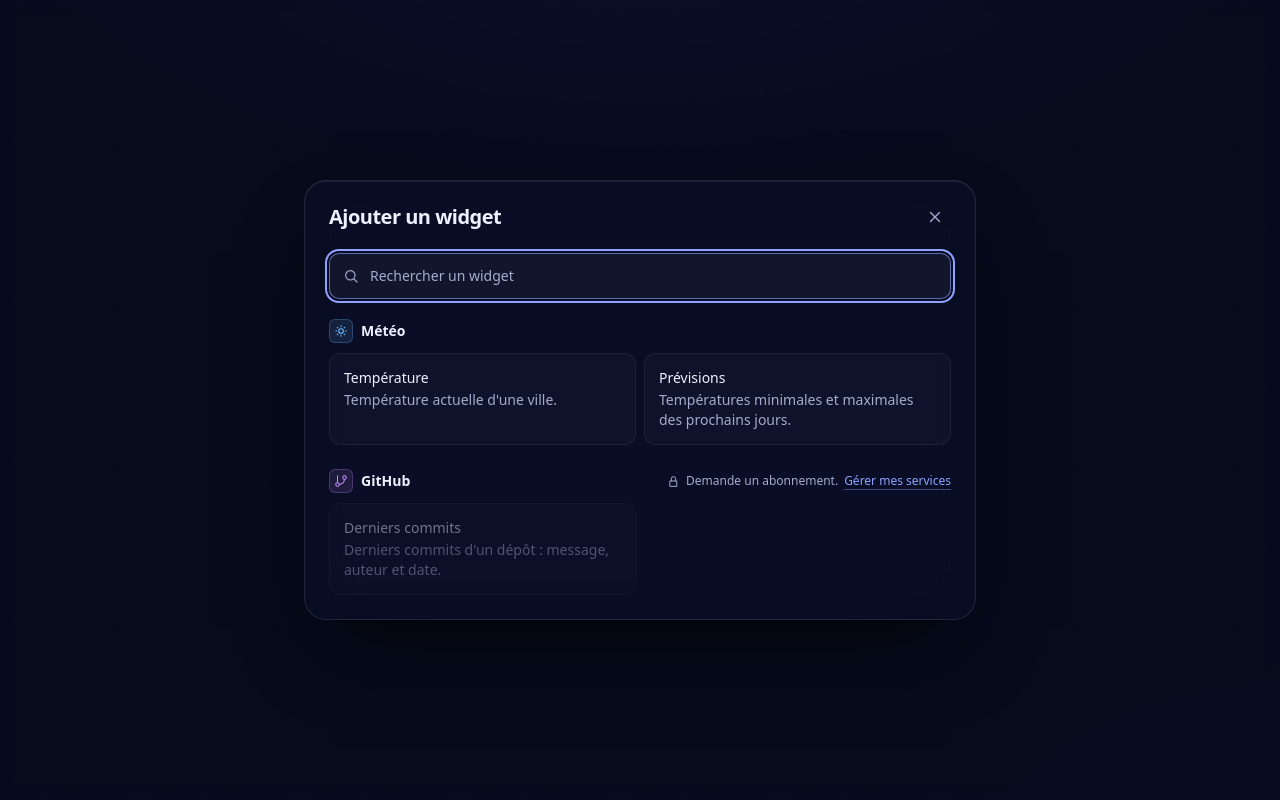
WidgetFormModal — ajout › affiche le message d'erreur renvoyé par le serveur
The width and height of the screenshot is (1280, 800).
Click the button "Température Température actuelle d'une ville." at (482, 399), box [329,353,636,445]
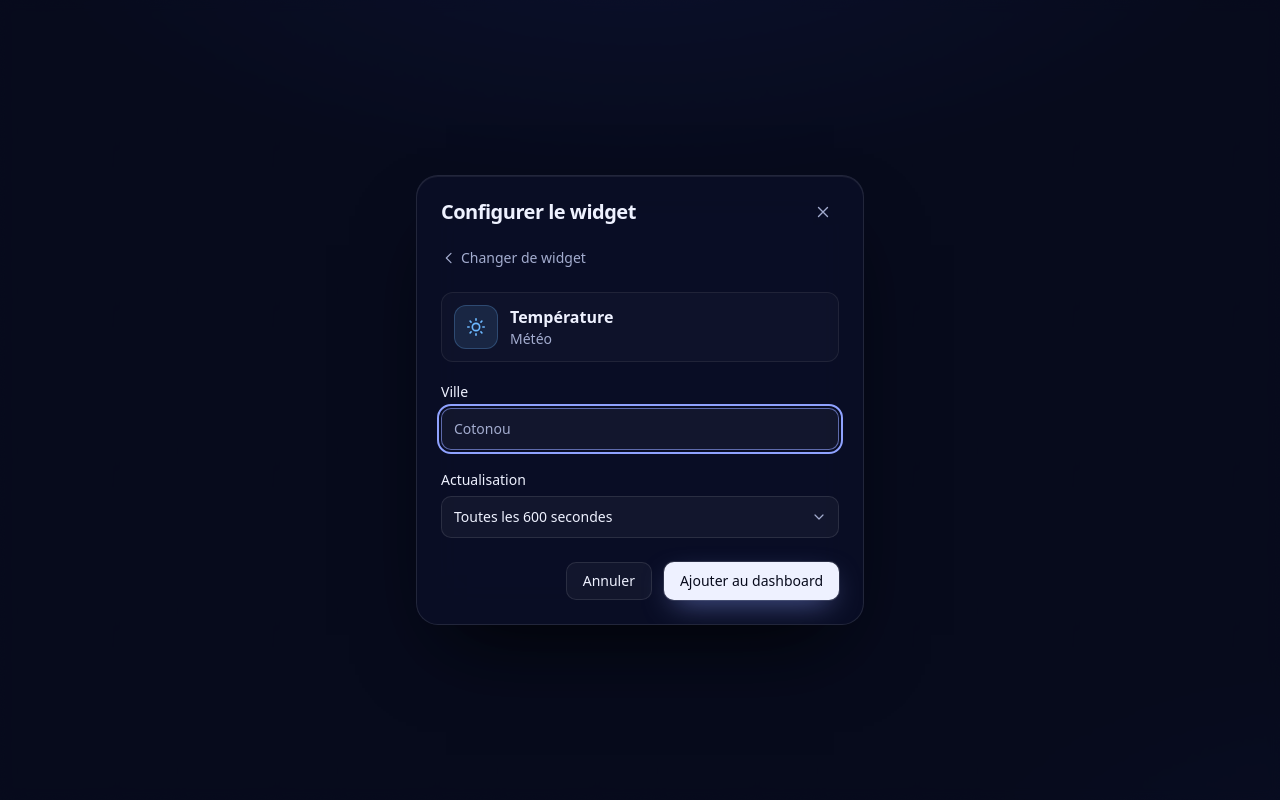
Type "Paris" into the field labelled "Ville" at (640, 429), box [441,408,839,450]
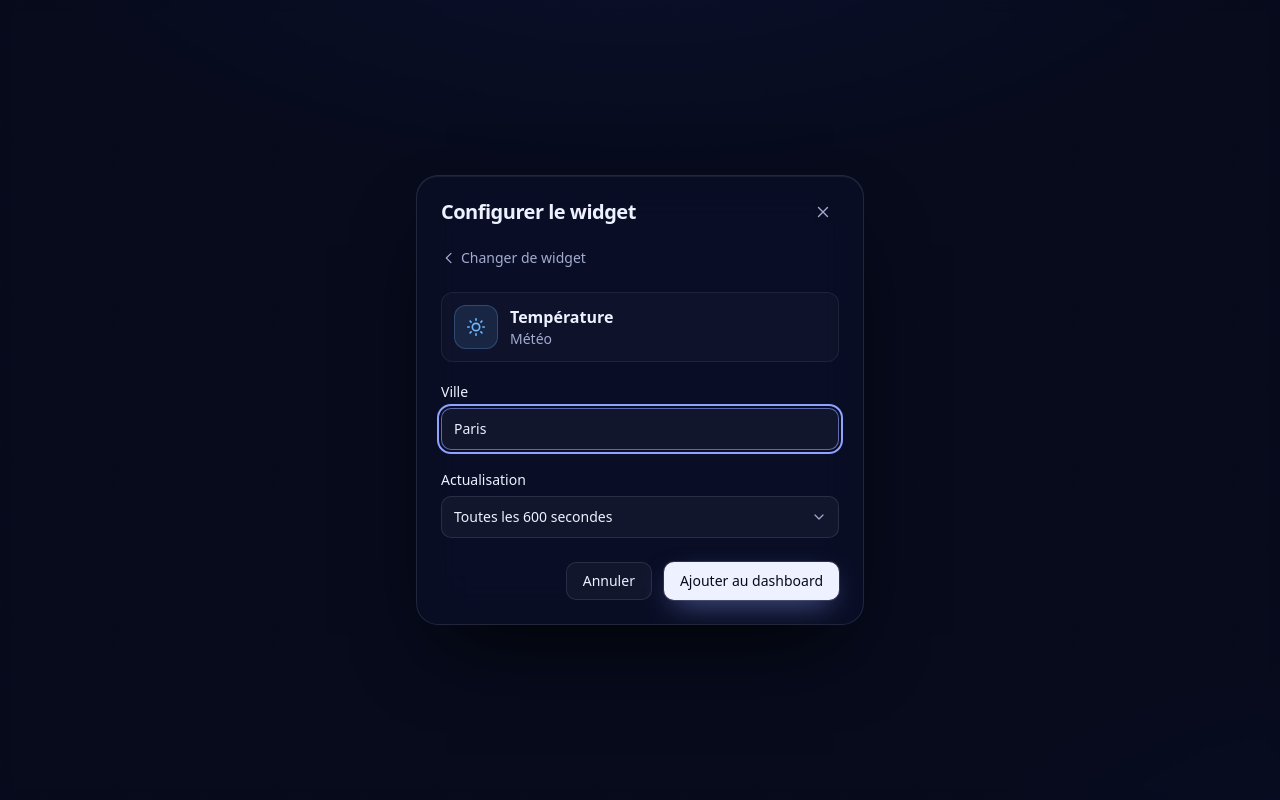
Click the button "Ajouter au dashboard" at (751, 581), box [664,562,839,600]
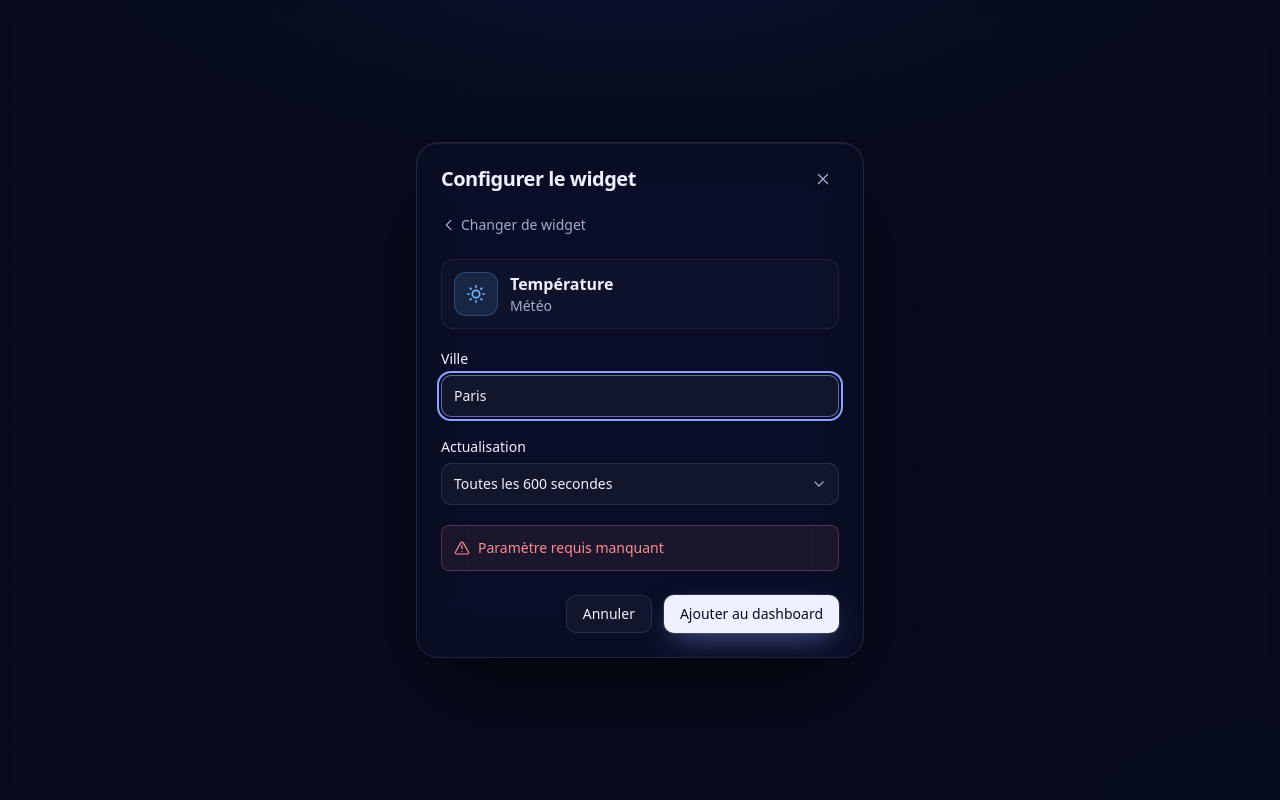
Now the message reads "Paramètre requis manquant", box [478,538,664,557]
